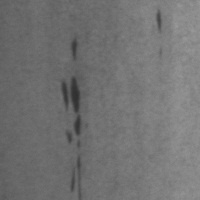inclusion: (64, 115, 84, 199), (59, 72, 85, 117), (153, 5, 167, 37), (69, 34, 80, 61)
